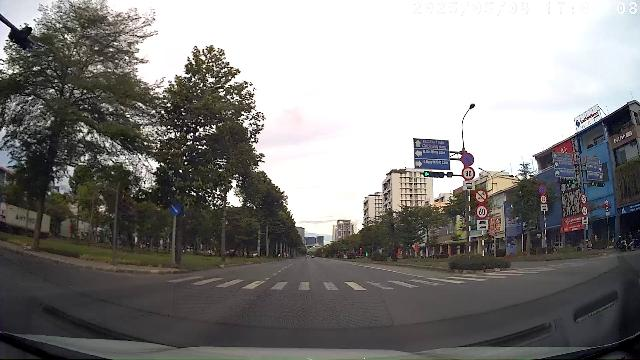127-toc-do-toi-da-60: (474, 204, 489, 219), (581, 206, 588, 216)
127-toc-do-toi-da-80: (461, 167, 475, 180), (540, 195, 548, 204)
130-cam-dung-va-do-xe: (461, 153, 475, 166), (538, 184, 548, 194)
